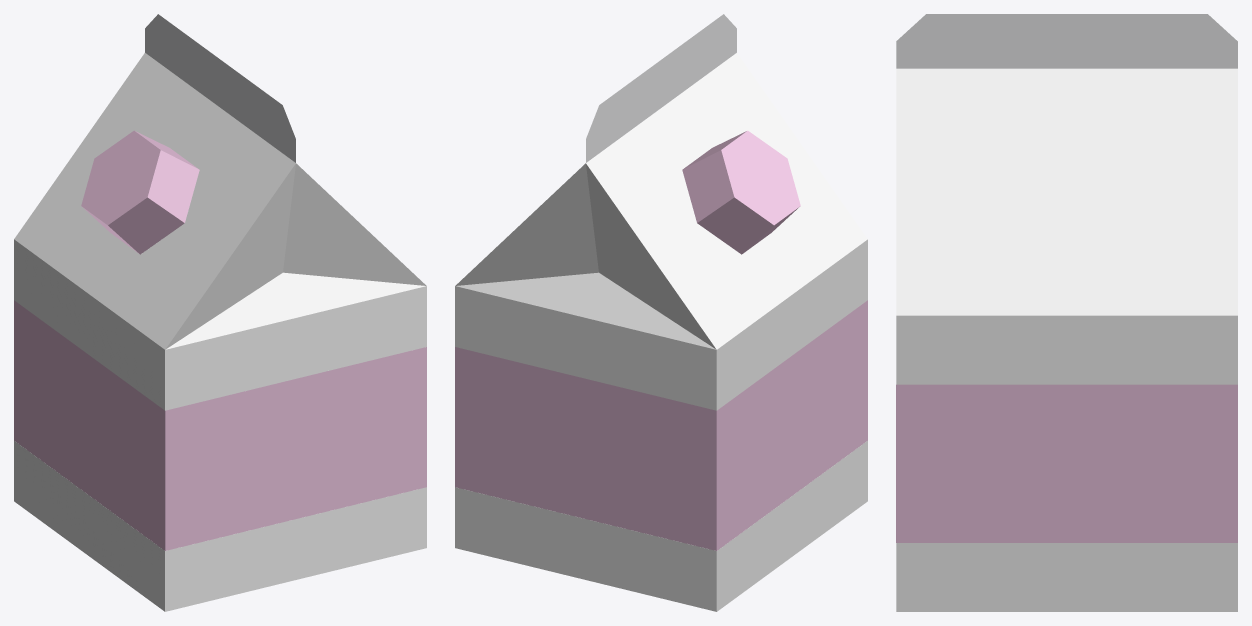
Rendered from carton-small.glb.
3 views of the same model, side by side, from view 1: azimuth 30°, elevation 25°; view 2: azimuth 150°, elevation 25°; view 3: azimuth 270°, elevation 25° (orthographic). The views are drawn at different scales.
Visible parts, largest first — view 1: cartonSmall; view 2: cartonSmall; view 3: cartonSmall.
Part boxes in pixels (x1,y1,x2,y2): cartonSmall: (14,14,426,611); cartonSmall: (455,14,867,611); cartonSmall: (896,14,1237,611).
Bounding box in the file's own units: 0.23 × 0.3906 × 0.23.
